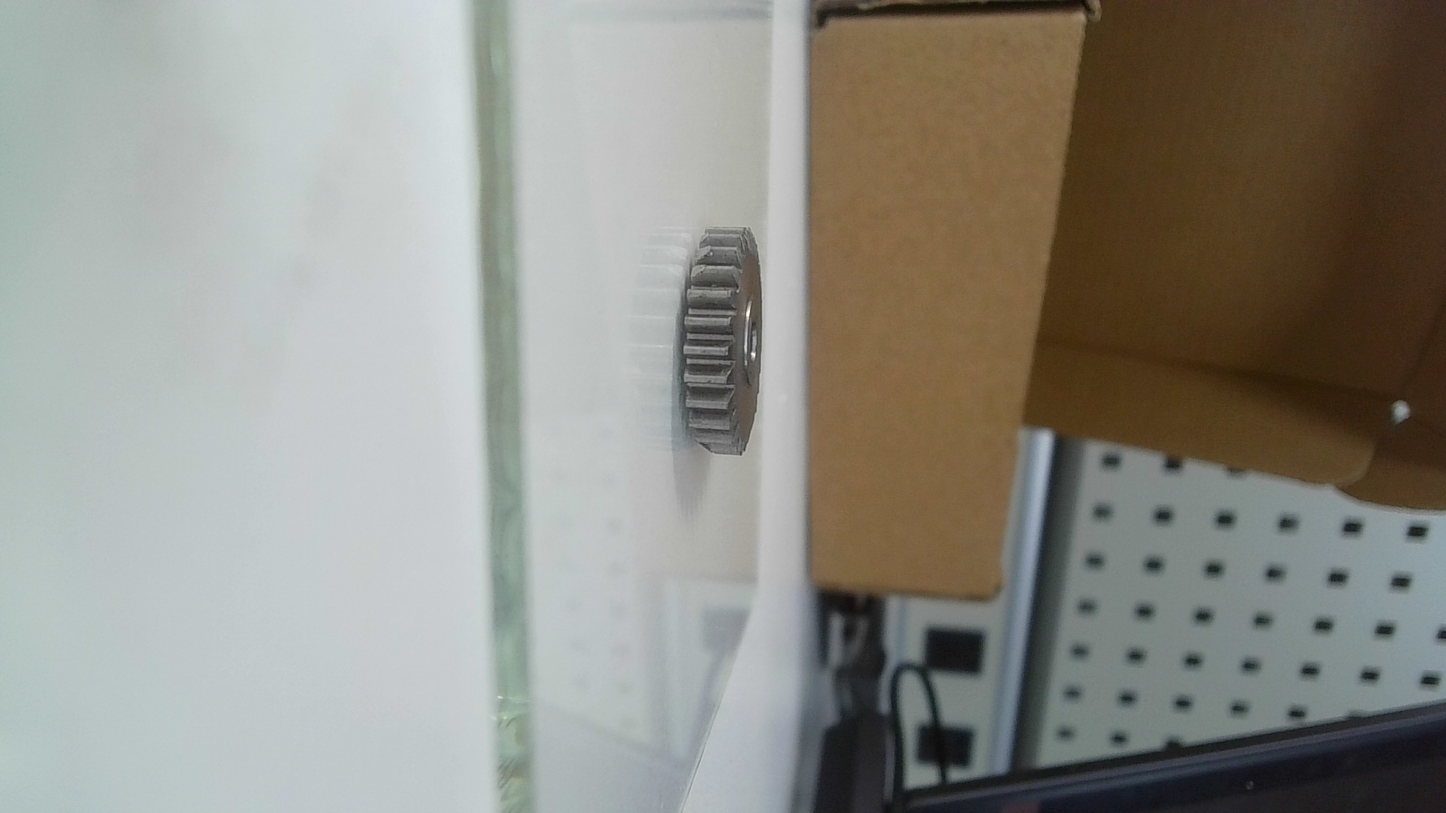gear: (672, 220, 766, 455)
